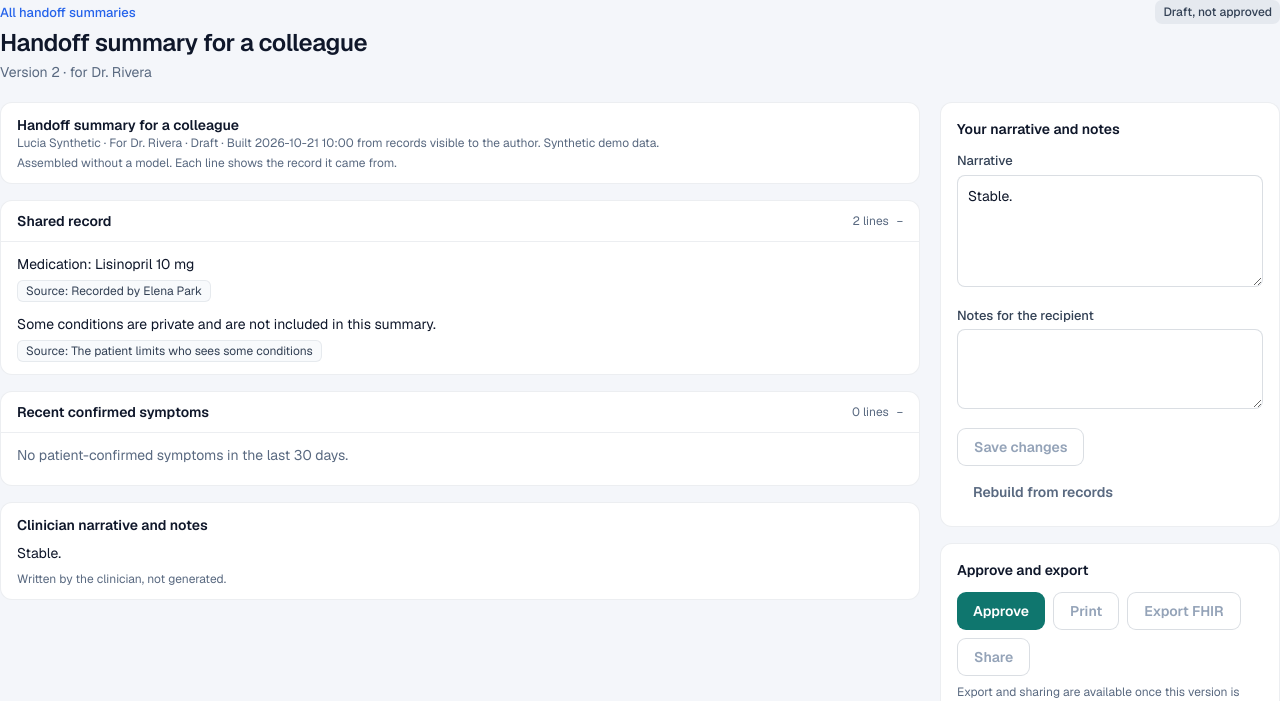
HandoffSummaryReview › gates export on approval, and approval on a confirmation
Expected: the text "Draft, not approved" is shown, [1155, 0, 1279, 24]
Expected: the button "Print" is disabled, [1053, 592, 1119, 630]
Click the button "Approve": (1001, 611) [957, 592, 1045, 630]
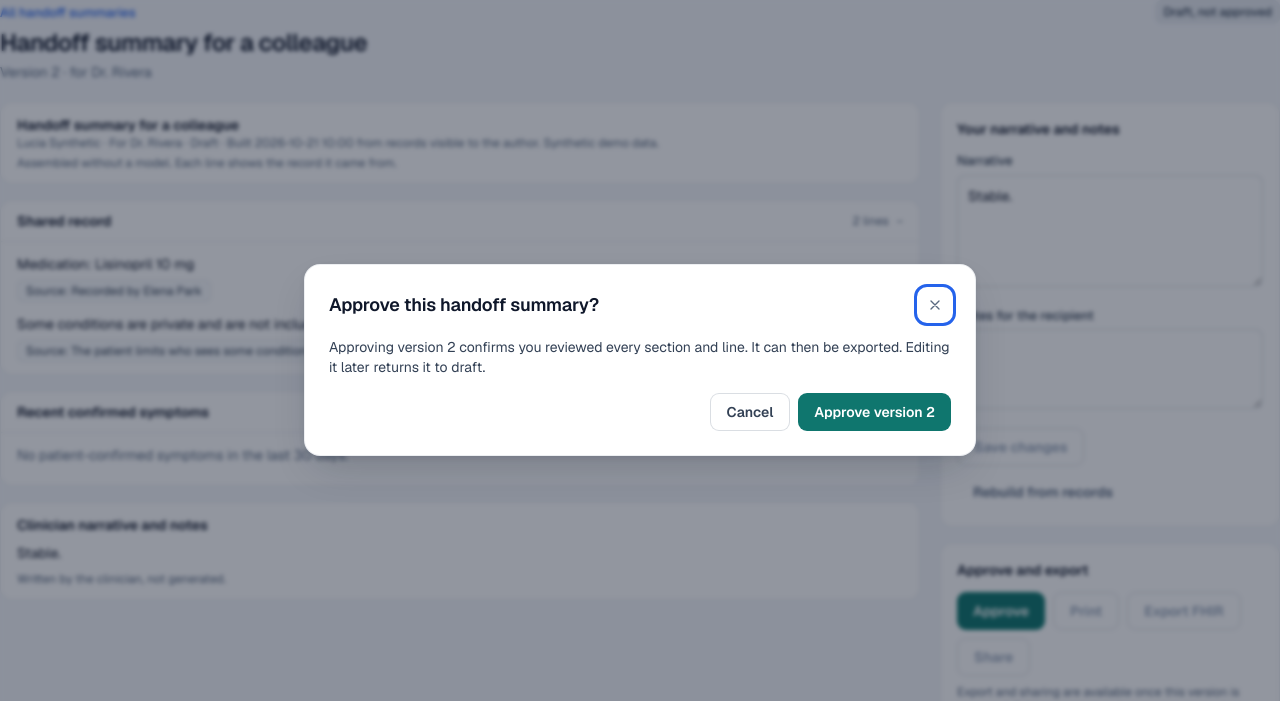
Click the button "Approve version 2": (875, 412) [798, 393, 951, 431]
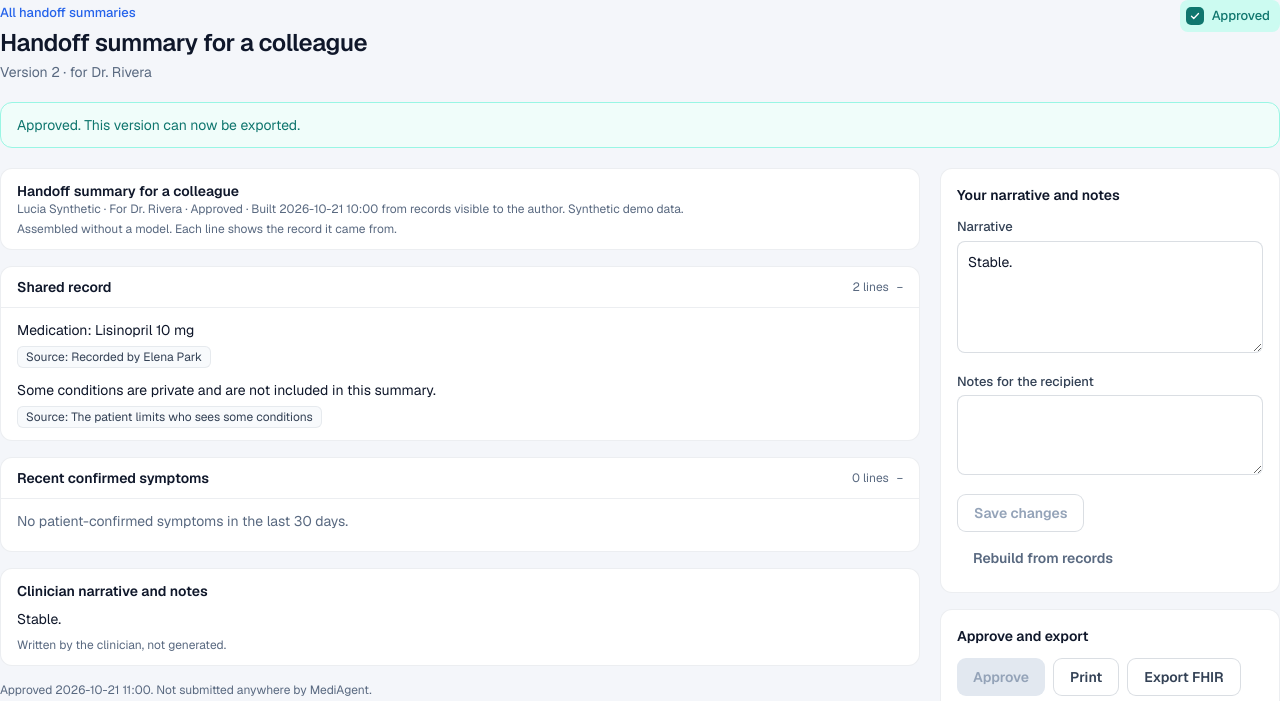
Result: the button "Export FHIR" is enabled at [1127, 658, 1240, 696]
